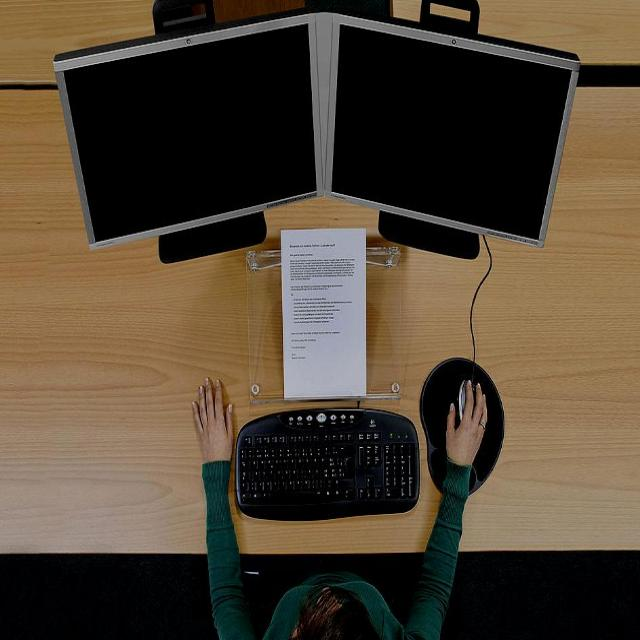keyboard: (232, 405, 421, 522)
